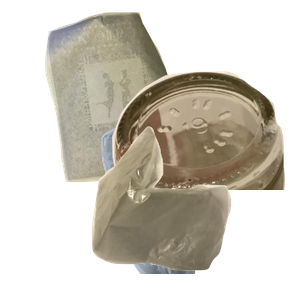glass: (89, 69, 300, 249)
paper: (43, 10, 221, 185)
plastic: (99, 120, 289, 300)
trash: (89, 124, 300, 300)
